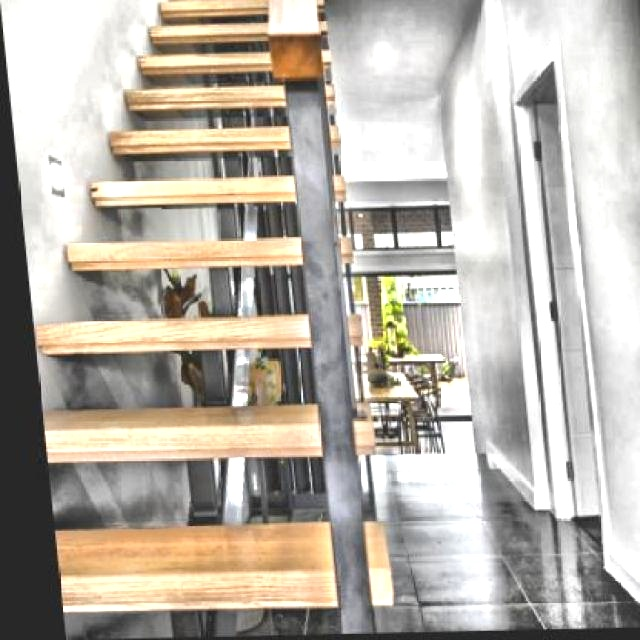stair: (12, 0, 377, 600)
